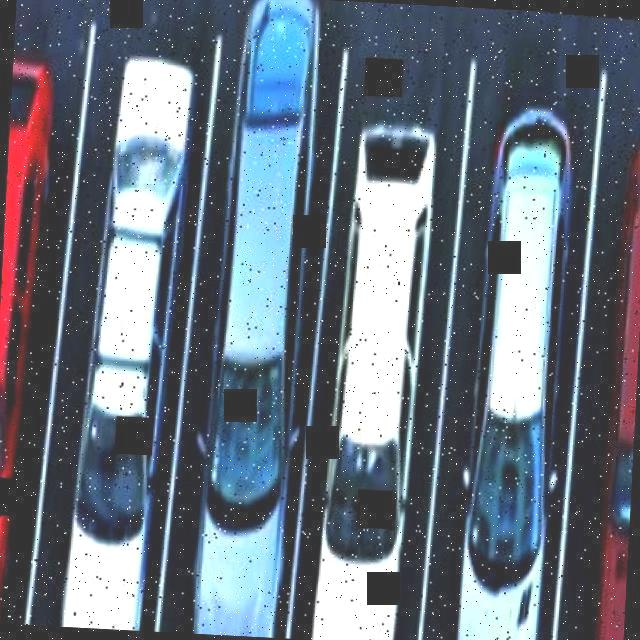car: (36, 147, 188, 632), (431, 96, 566, 640), (192, 65, 322, 610), (305, 144, 424, 640), (588, 141, 640, 637), (0, 162, 51, 624)
